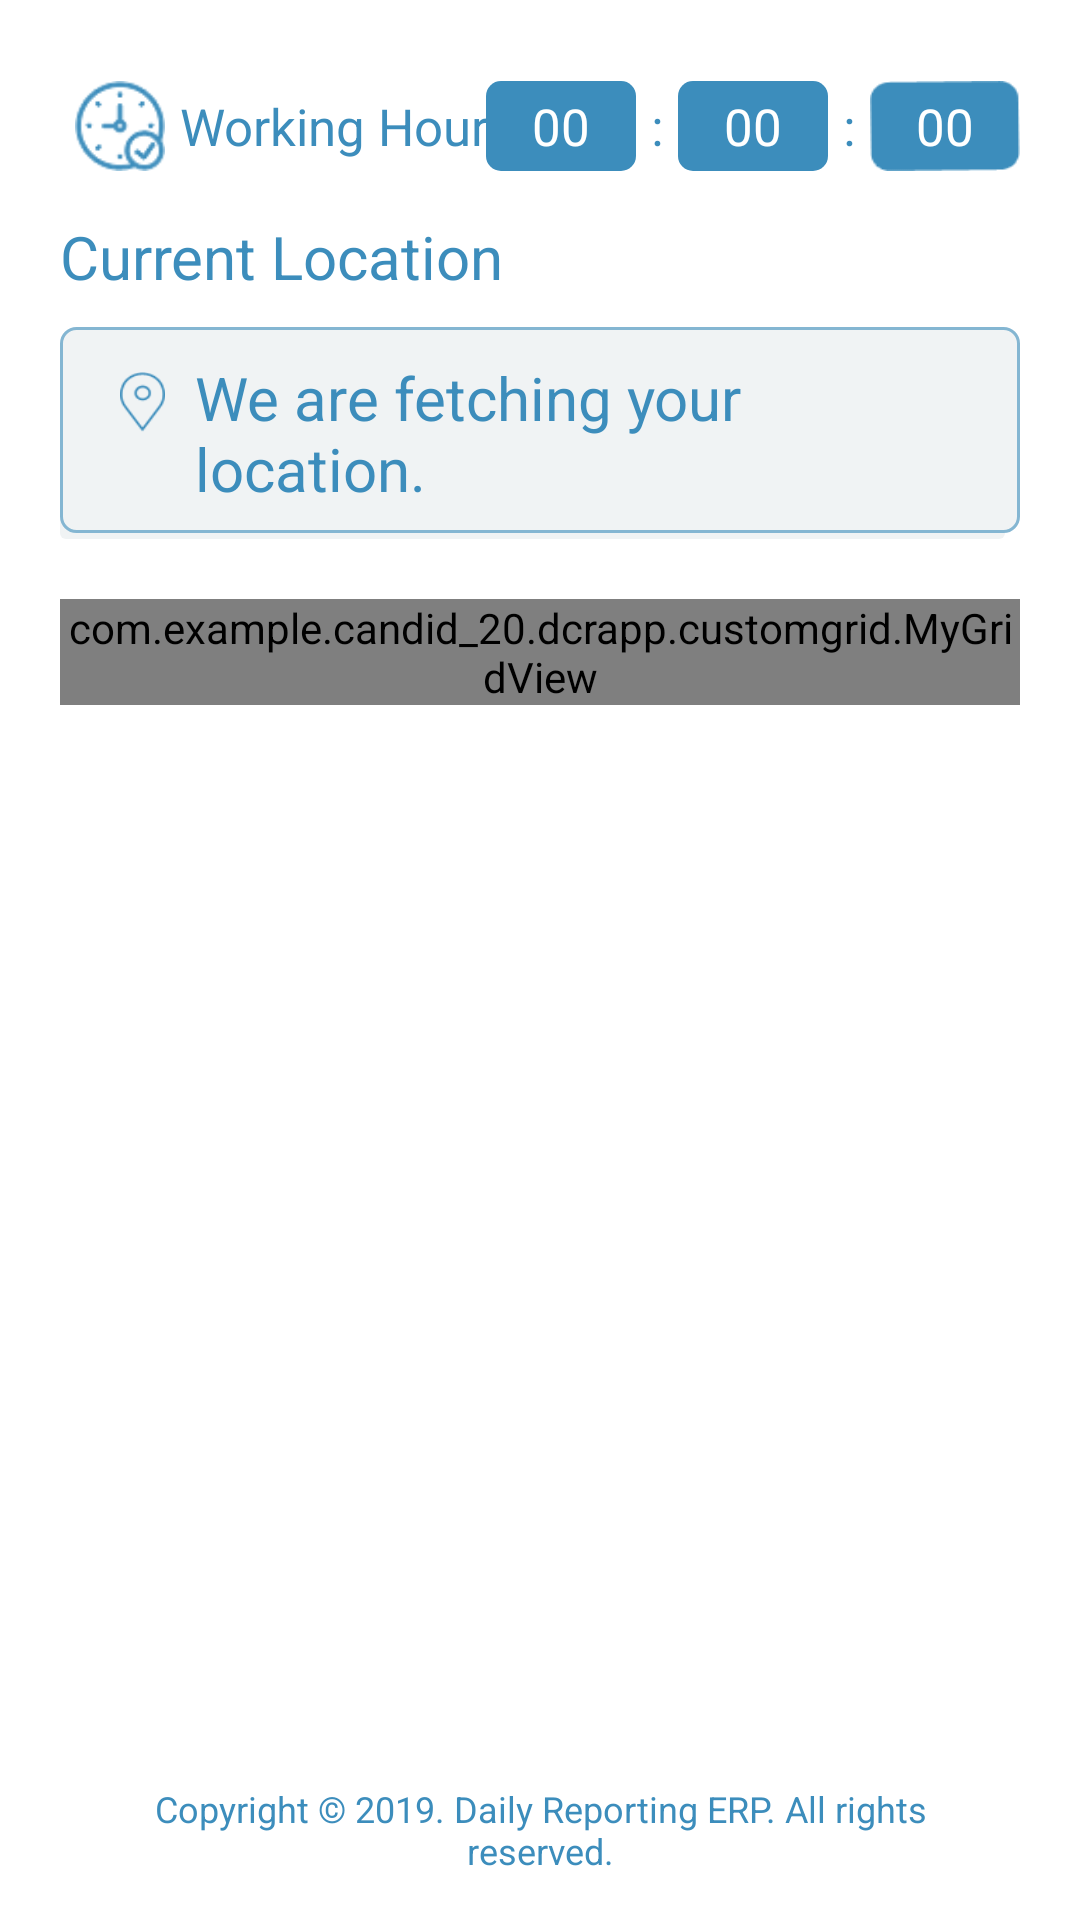

Icon click points for this 1080 x 1920 phone screenshot, format [x,y]:
timer: [120,126]
